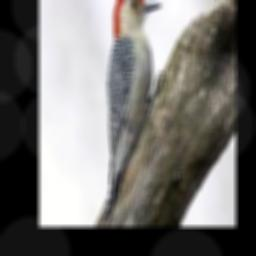Woodpecker: (97, 0, 161, 226)
